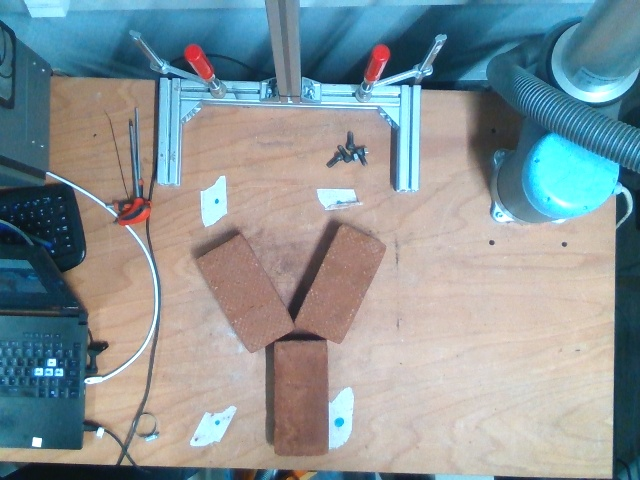brick: (194, 234, 295, 352), (293, 222, 388, 345), (272, 340, 327, 454)
